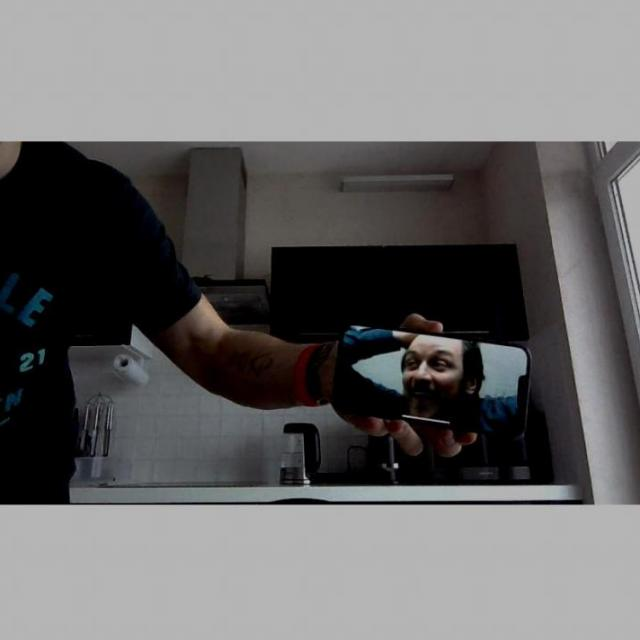device: (325, 318, 537, 438)
